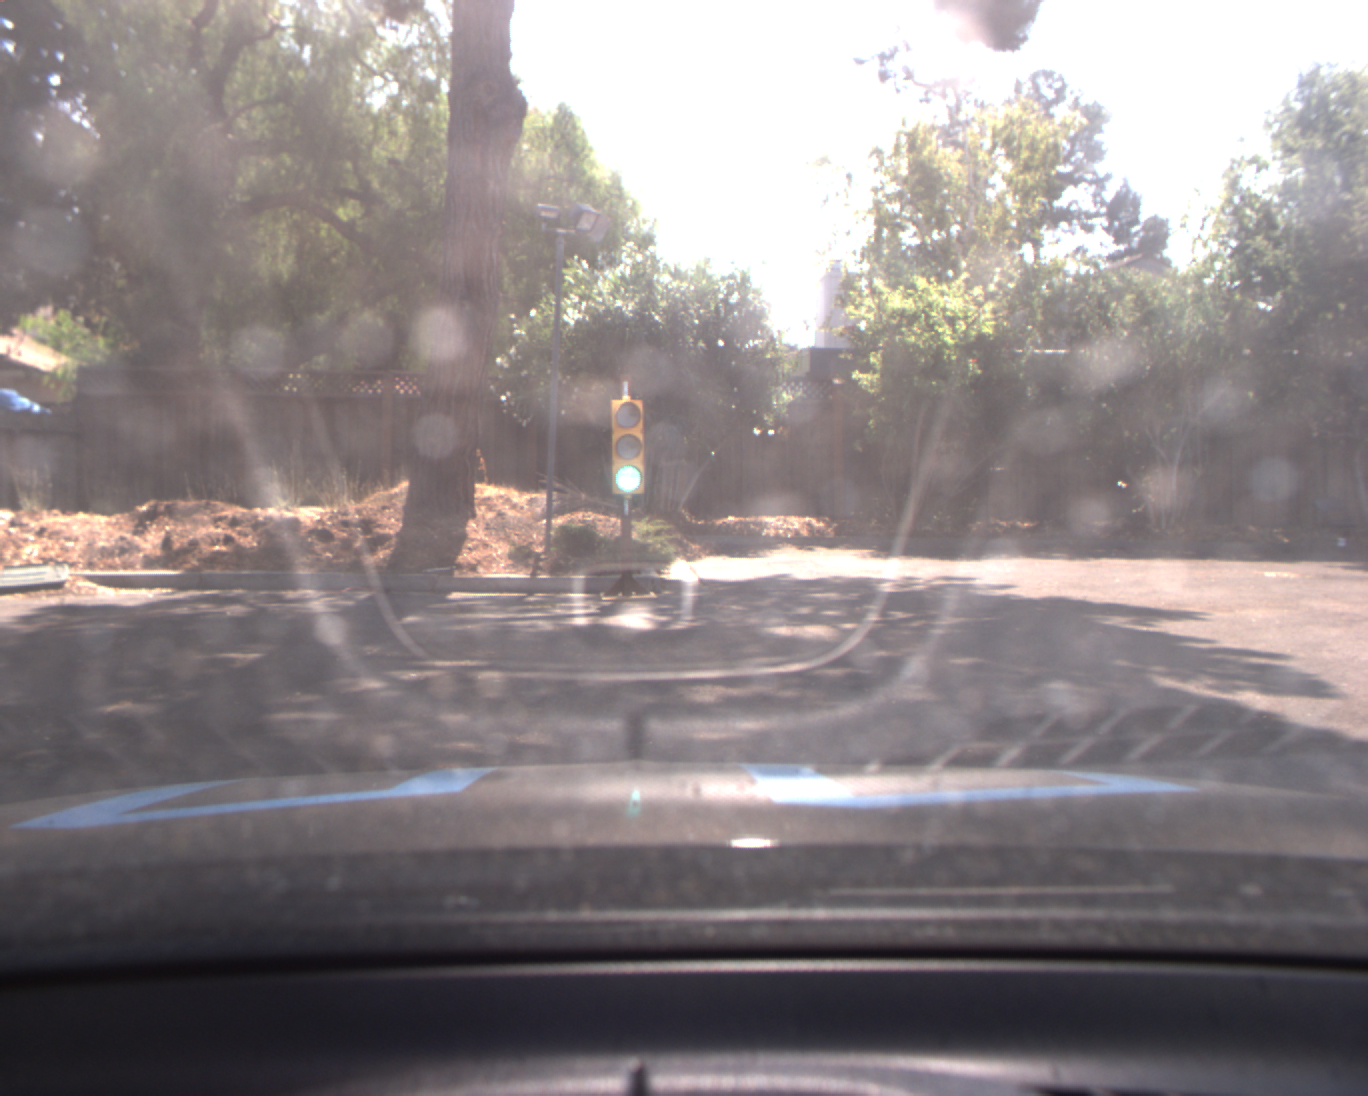green: (611, 399, 645, 495)
